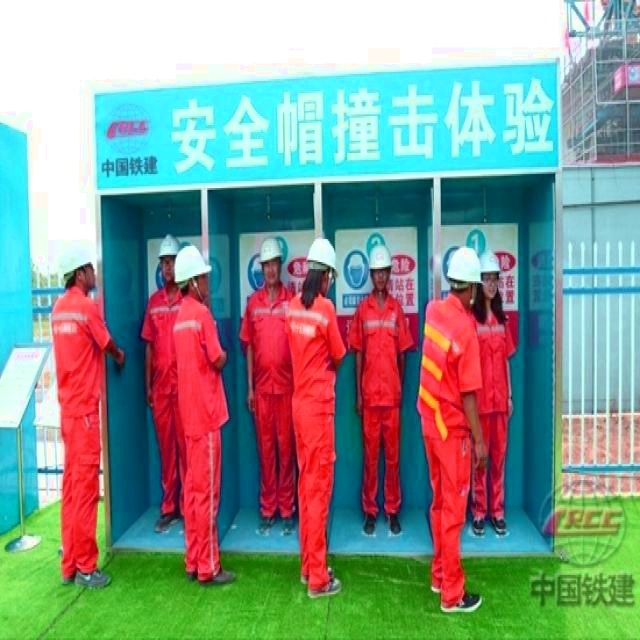Con_Casco: (174, 244, 212, 293), (447, 248, 481, 300), (307, 239, 336, 296), (261, 235, 283, 286), (370, 244, 391, 293)
Con_Chaleco: (422, 304, 478, 440)
